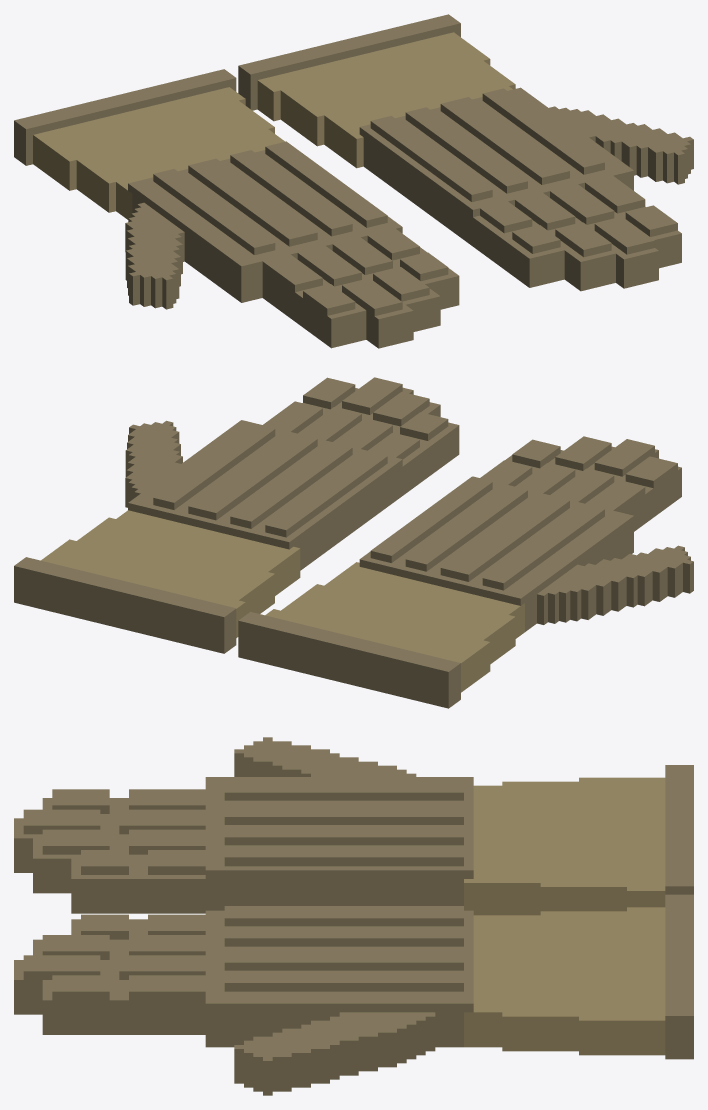
The model's file is aketon_gloves_canvas.glb.
The picture shows the model from 3 angles, top to bottom: view 1: azimuth 30°, elevation 25°; view 2: azimuth 150°, elevation 25°; view 3: azimuth 270°, elevation 25°; orthographic projection. The views are drawn at different scales.
Parts seen in each view (by area): view 1: aketon_gloves_canvas:compound; view 2: aketon_gloves_canvas:compound; view 3: aketon_gloves_canvas:compound.
Boxes of the visible parts, bbox=[...] form: aketon_gloves_canvas:compound: bbox=[14, 14, 693, 348]; aketon_gloves_canvas:compound: bbox=[14, 377, 693, 708]; aketon_gloves_canvas:compound: bbox=[14, 737, 693, 1095].
Bounding box in the file's own units: 0.32 × 0.024 × 0.284.
